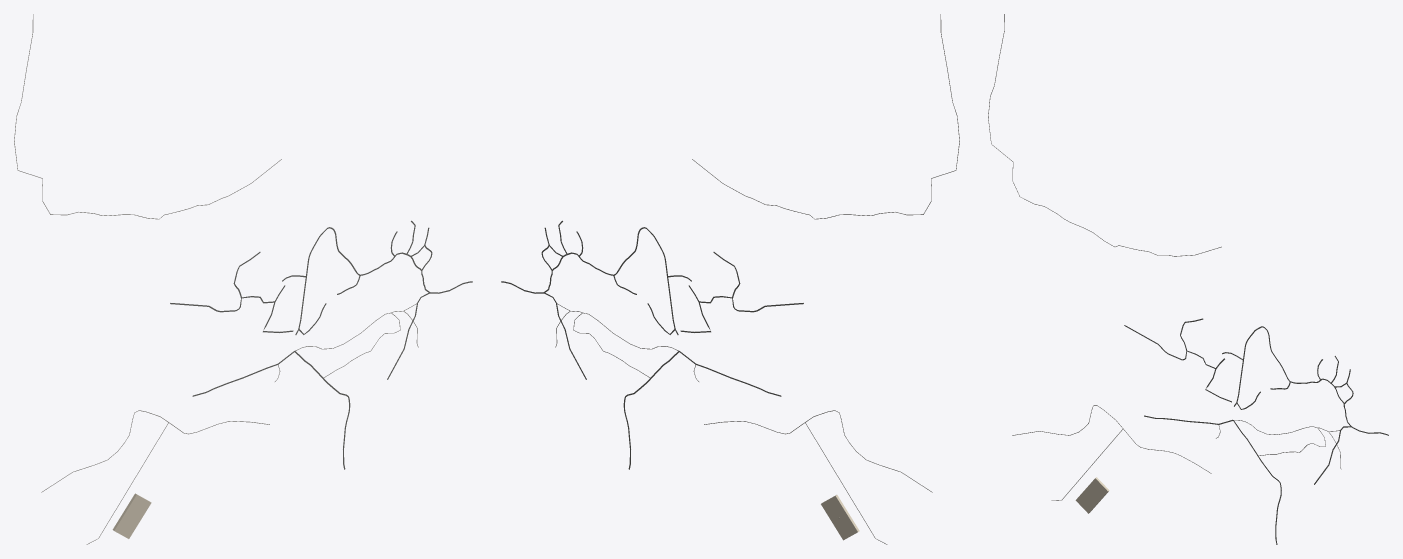
The model's file is historic-palestine-08_20_3499_3145.glb.
3 renders of one model, left to right at view 1: azimuth 30°, elevation 25°; view 2: azimuth 150°, elevation 25°; view 3: azimuth 330°, elevation 25°, orthographic. The views are drawn at different scales.
Parts seen in each view (by area): view 1: Building_; view 2: Building_; view 3: Building_.
Part boxes in pixels (x1,y1,x2,y2): Building_: [112, 493, 151, 538]; Building_: [821, 495, 859, 540]; Building_: [1075, 477, 1109, 513].
Size of the model in its own units: 1191 by 1361 by 8.7.
